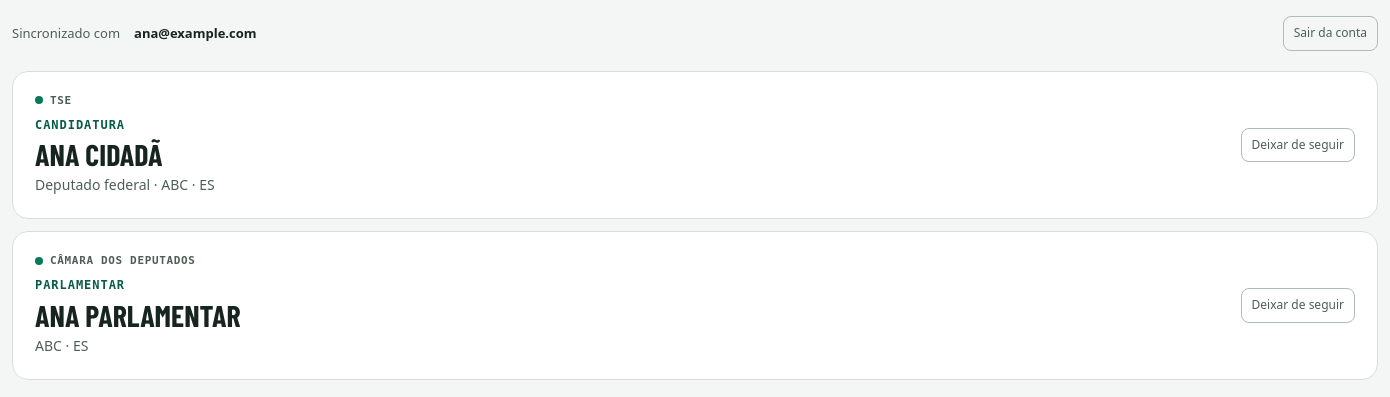
Test case: authenticated following › renders and removes a TSE candidacy without colliding with a legislative follow
Check: the text "TSE" is shown, box 35,94 -> 72,107
Check: the text "Candidatura" is shown, box 35,118 -> 125,132
Click the button "Deixar de seguir" in the row of "ANA CIDADÃ": click(1298, 145) 1241,128 -> 1355,162
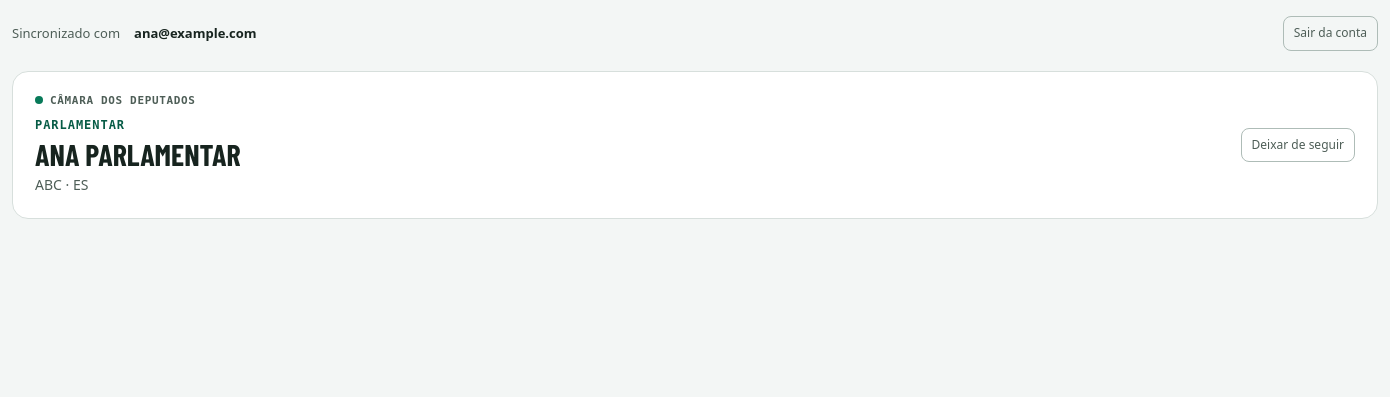
Check: the link "ANA PARLAMENTAR" is shown, box 35,136 -> 241,172
Check: the link "ANA CIDADÃ" is gone
